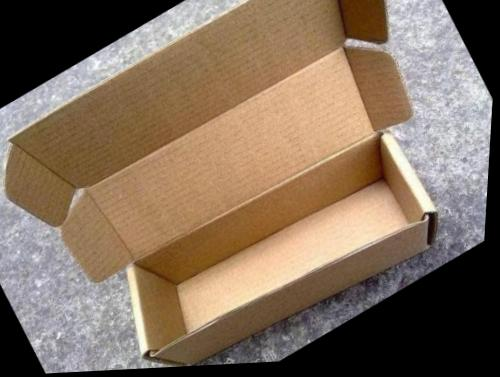cardboard: (0, 0, 436, 372)
